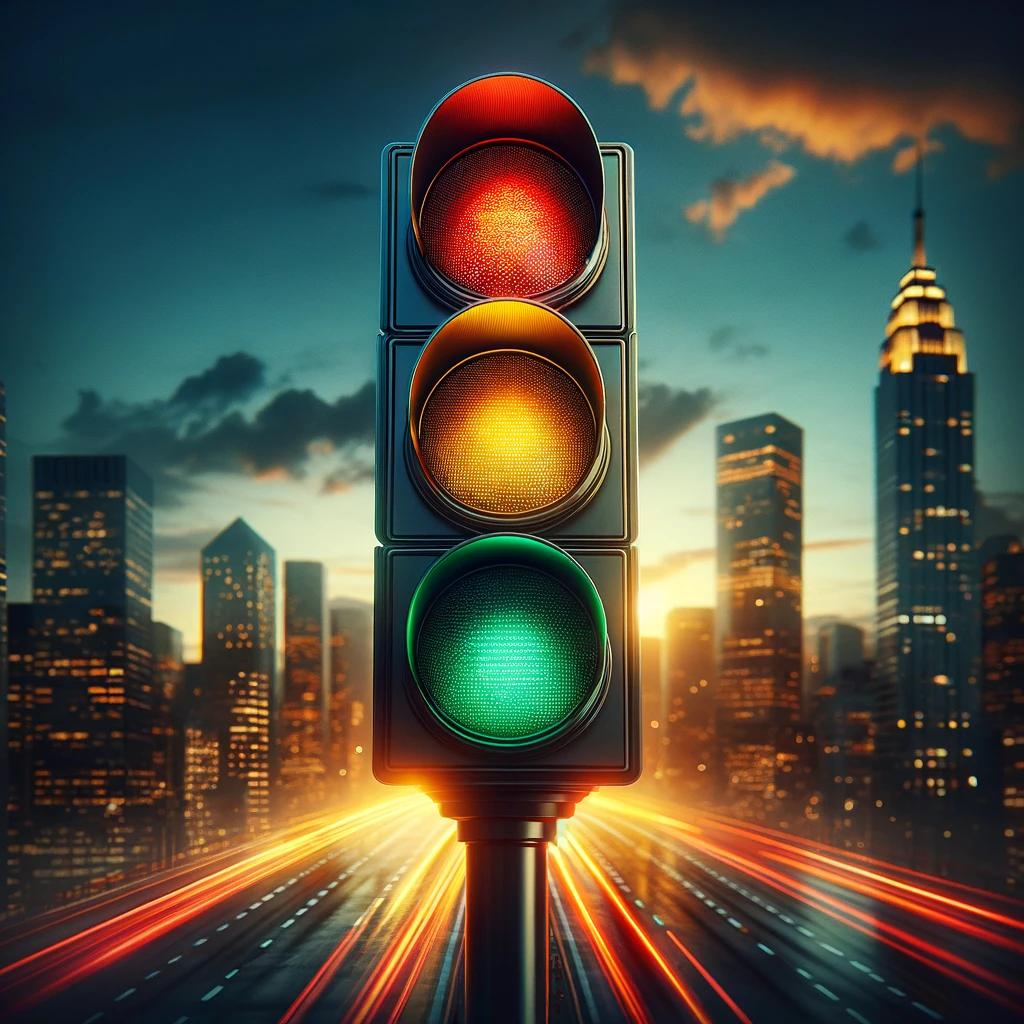traffic light: (313, 63, 708, 849)
